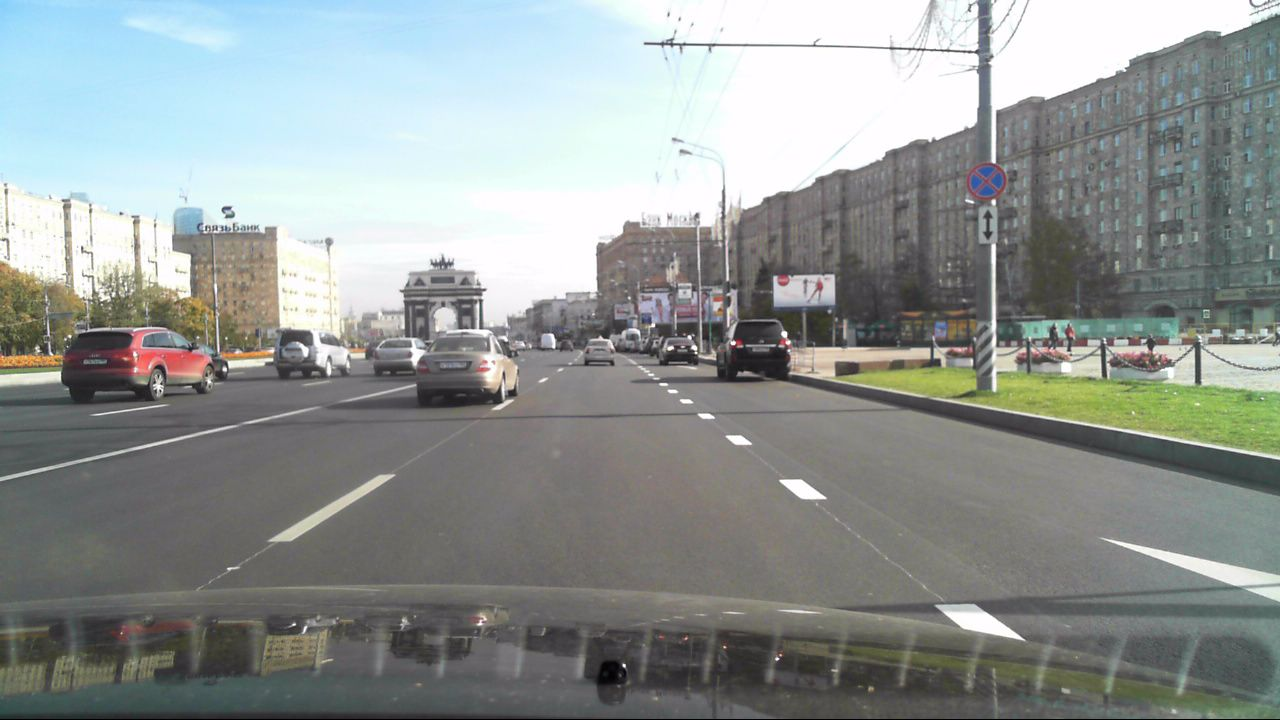No Parking: (965, 160, 1006, 201)
